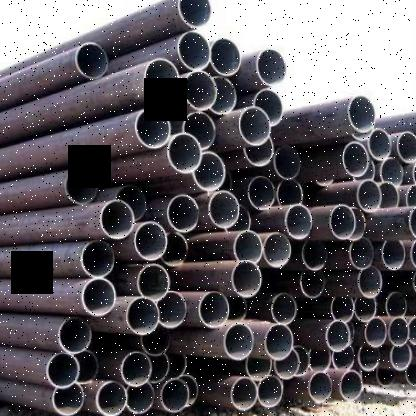pipe: (134, 108, 171, 150), (100, 199, 136, 240), (144, 59, 180, 99), (167, 134, 203, 174), (183, 71, 218, 110), (192, 150, 226, 190), (81, 240, 115, 278), (46, 353, 81, 389), (239, 107, 271, 146), (178, 32, 210, 71), (58, 318, 92, 354), (183, 112, 216, 149), (167, 195, 200, 232), (138, 264, 171, 301), (82, 278, 115, 315), (126, 298, 159, 335), (134, 222, 166, 260), (208, 191, 240, 228), (231, 260, 262, 298), (210, 38, 241, 76), (66, 169, 99, 204), (95, 380, 127, 416), (76, 43, 108, 79), (253, 89, 284, 126), (224, 323, 254, 361), (198, 292, 229, 328), (256, 49, 286, 86), (121, 352, 152, 387), (157, 291, 187, 327), (262, 232, 291, 268), (265, 324, 294, 360), (348, 95, 376, 132), (52, 384, 84, 416), (160, 379, 190, 413), (284, 204, 312, 240), (116, 186, 146, 219), (218, 291, 248, 323), (233, 231, 262, 264), (342, 142, 369, 177), (162, 232, 189, 267), (212, 76, 236, 115), (126, 382, 155, 414), (248, 176, 275, 210), (329, 205, 356, 239), (244, 136, 274, 166), (273, 348, 301, 380), (274, 146, 301, 179), (178, 0, 211, 27), (231, 377, 257, 411), (257, 375, 284, 407), (73, 350, 98, 384), (142, 326, 170, 356), (225, 202, 252, 233), (325, 320, 351, 352), (357, 180, 382, 212), (302, 240, 328, 270), (368, 128, 392, 160), (349, 238, 373, 270), (358, 266, 382, 298), (271, 293, 295, 325), (309, 371, 333, 403), (163, 350, 187, 380), (340, 370, 362, 402), (382, 240, 405, 270), (277, 179, 303, 205), (300, 271, 325, 298), (388, 317, 410, 347), (364, 318, 386, 348), (148, 354, 170, 384), (330, 297, 355, 323), (380, 158, 403, 186), (177, 375, 198, 405), (246, 357, 273, 380), (396, 131, 416, 162), (358, 344, 380, 372), (332, 345, 355, 370), (379, 182, 399, 210), (390, 345, 411, 371), (350, 207, 366, 241), (309, 349, 332, 372), (354, 297, 376, 321), (386, 292, 406, 318), (294, 346, 310, 376), (376, 364, 397, 386), (407, 314, 416, 346), (405, 361, 416, 387), (408, 205, 416, 239), (406, 184, 416, 209), (409, 237, 416, 271), (411, 268, 416, 295), (414, 159, 416, 186)
